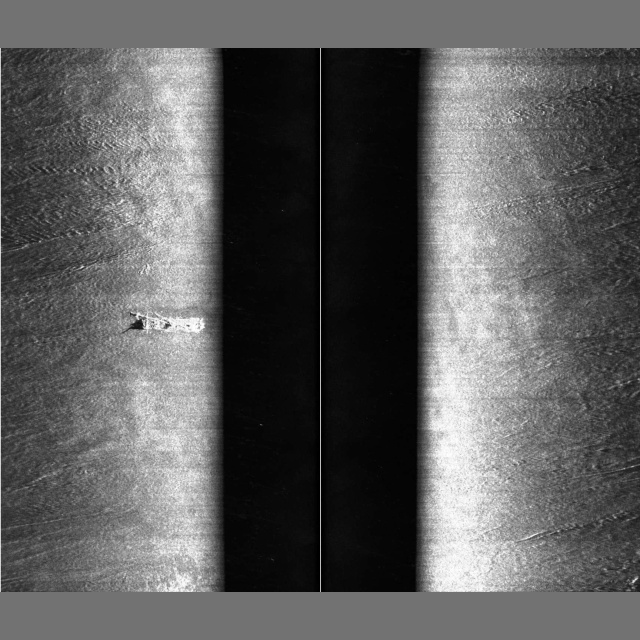Shipwreck: (130, 311, 206, 337)
